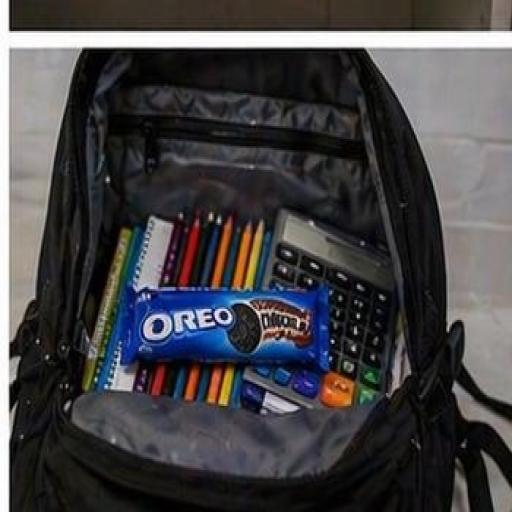oreo: (93, 230, 358, 440)
